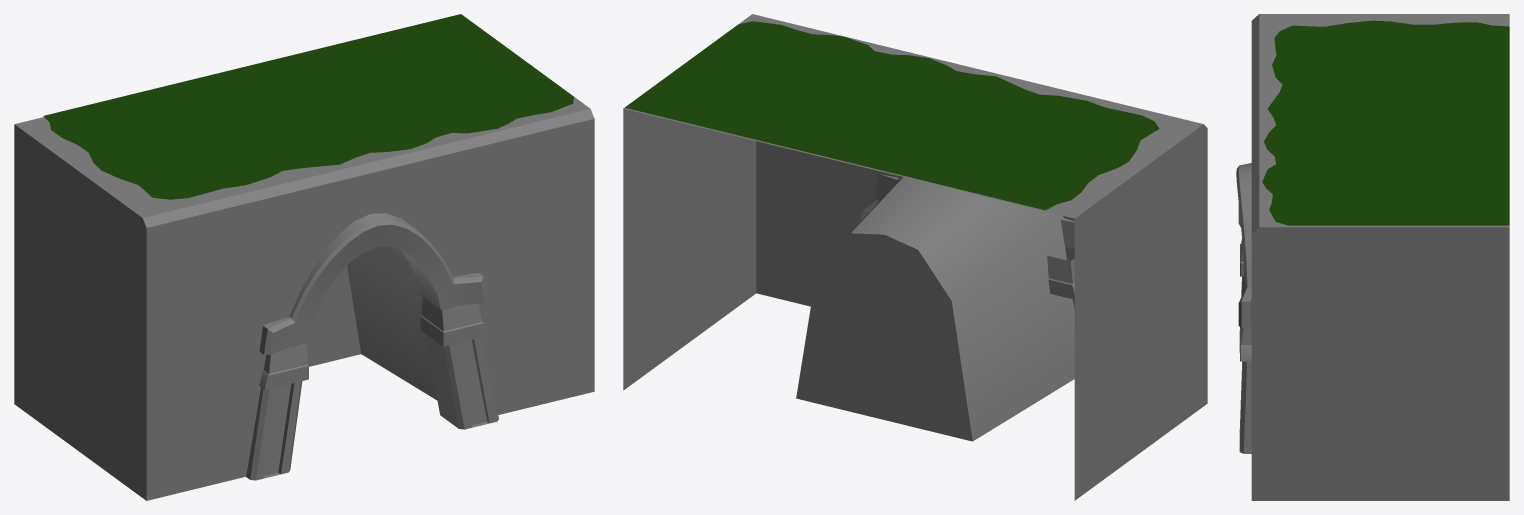
The model's file is Jungle_wall_02.fbx.
3 renders of one model, left to right at view 1: azimuth 30°, elevation 25°; view 2: azimuth 150°, elevation 25°; view 3: azimuth 270°, elevation 25°, orthographic. The views are drawn at different scales.
Visible parts, largest first — view 1: Box012; view 2: Box012; view 3: Box012.
Part boxes in pixels (x1,y1,x2,y2): Box012: (14, 14, 594, 500); Box012: (623, 14, 1207, 500); Box012: (1236, 14, 1509, 500).
Size of the model in its own units: 44.54 by 26.76 by 24.11.
